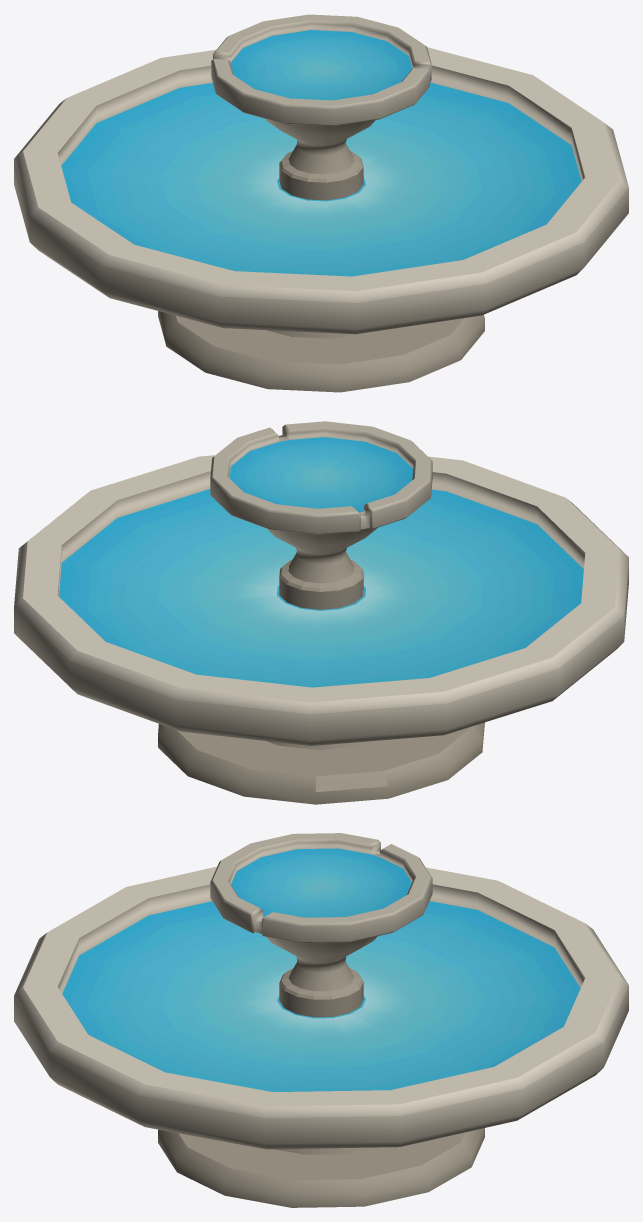
Rendered from Fountain.fbx.
3 views of the same model, one above another, from view 1: azimuth 30°, elevation 25°; view 2: azimuth 150°, elevation 25°; view 3: azimuth 270°, elevation 25° (orthographic).
Visible parts, largest first — view 1: Fountain; view 2: Fountain; view 3: Fountain.
Boxes of the visible parts, box(x1,y1,x2,y2) form: Fountain: box(14, 14, 628, 392); Fountain: box(14, 421, 628, 804); Fountain: box(14, 833, 628, 1207).
Bounding box in the file's own units: 350 × 167 × 355.
